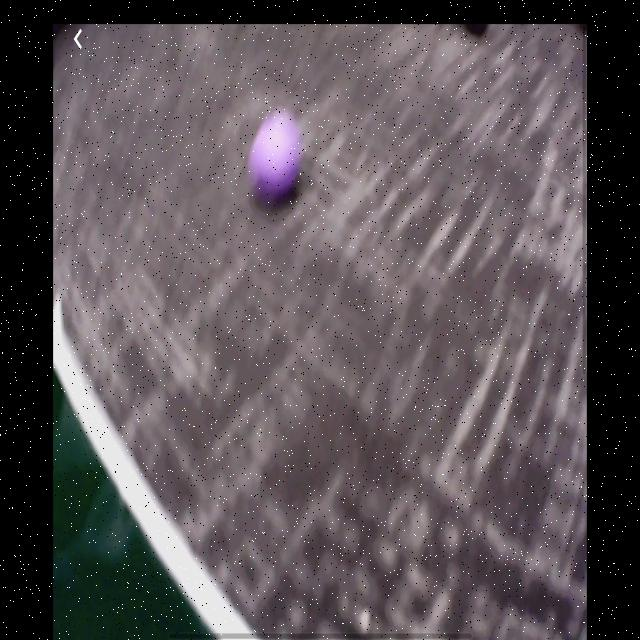ball: (248, 109, 305, 206)
